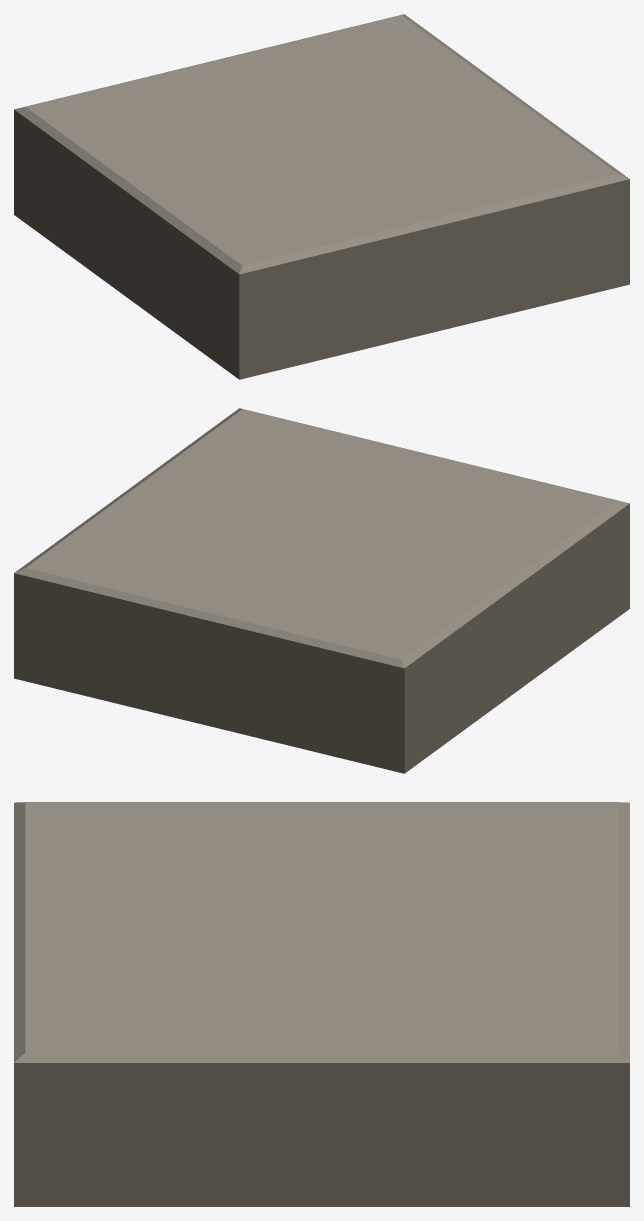
The model's file is Bottom_A4.fbx.
3 views of the same model, one above another, from view 1: azimuth 30°, elevation 25°; view 2: azimuth 150°, elevation 25°; view 3: azimuth 270°, elevation 25° (orthographic). The views are drawn at different scales.
Visible parts, largest first — view 1: Bottom_A4; view 2: Bottom_A4; view 3: Bottom_A4.
Part boxes in pixels (x1,y1,x2,y2): Bottom_A4: (14, 14, 629, 379); Bottom_A4: (14, 408, 629, 773); Bottom_A4: (14, 802, 629, 1206).
Size of the model in its own units: 623 by 167 by 623.
